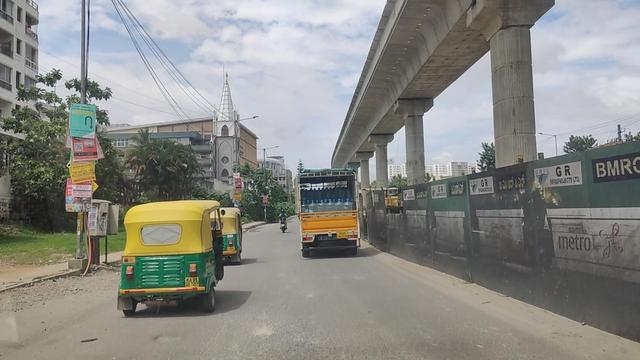HMV: (306, 168, 368, 264)
LMV: (118, 198, 216, 328), (281, 209, 293, 238)
RoadDamages: (149, 329, 188, 351)
